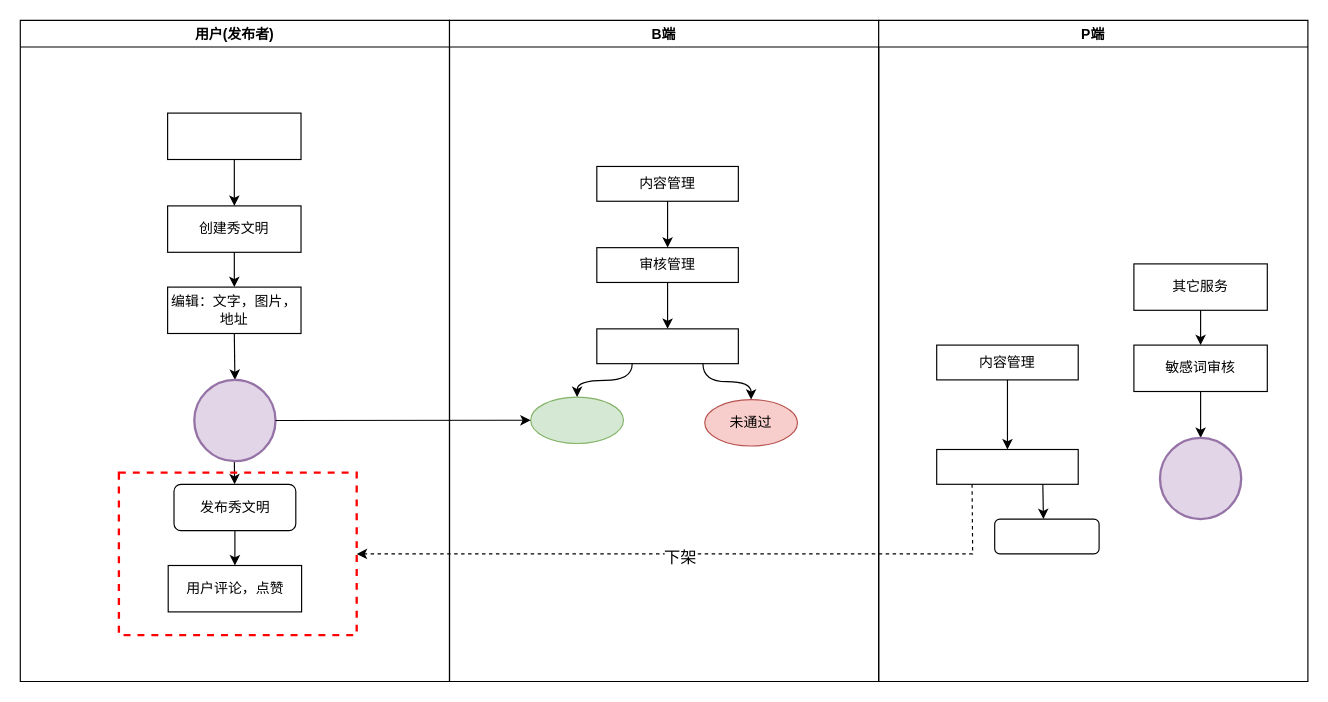
This 1328x702 diagram has some shape labels left out. The centre of each missing label's shape, as x and y in pixels:
"AI审核" goes at pixel 234 420.
"审核通过" goes at pixel 577 419.
"文明秀" goes at pixel 667 346.
"查看详情" goes at pixel 1046 536.
"注册用户" goes at pixel 233 136.
"秀文明" goes at pixel 1007 466.
"设置AI审核" goes at pixel 1200 478.
